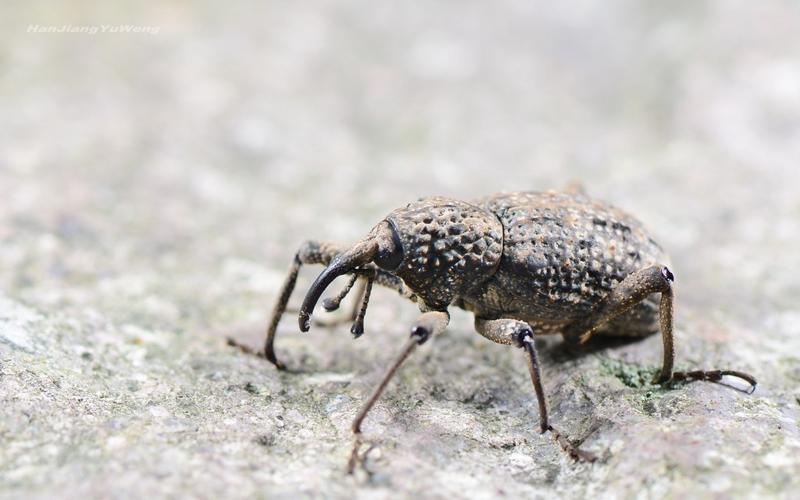Curculionidae: (221, 182, 759, 487)
